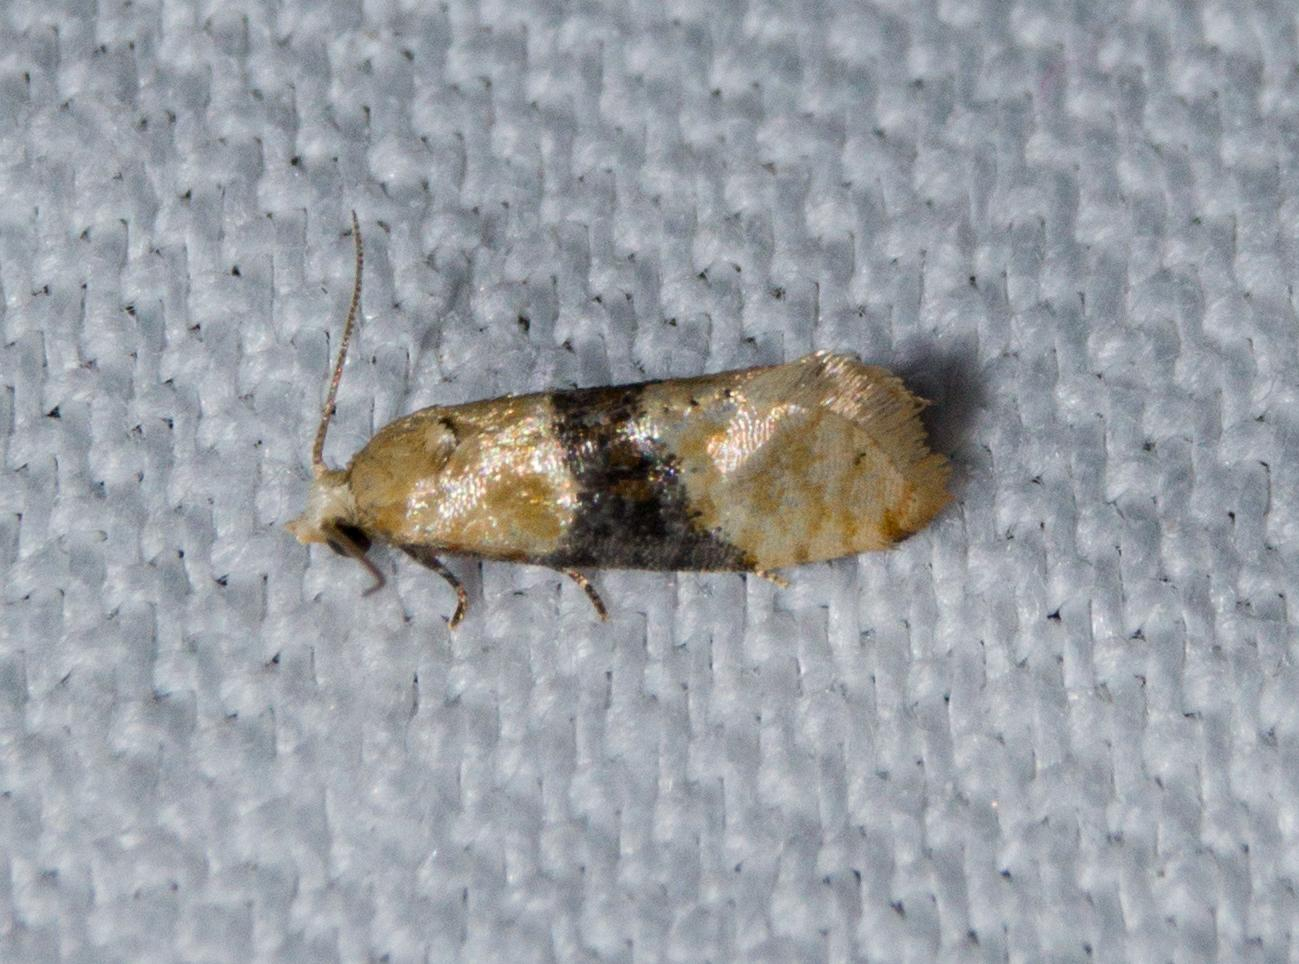Eupoecilia Ambiguella: (278, 204, 960, 634)
